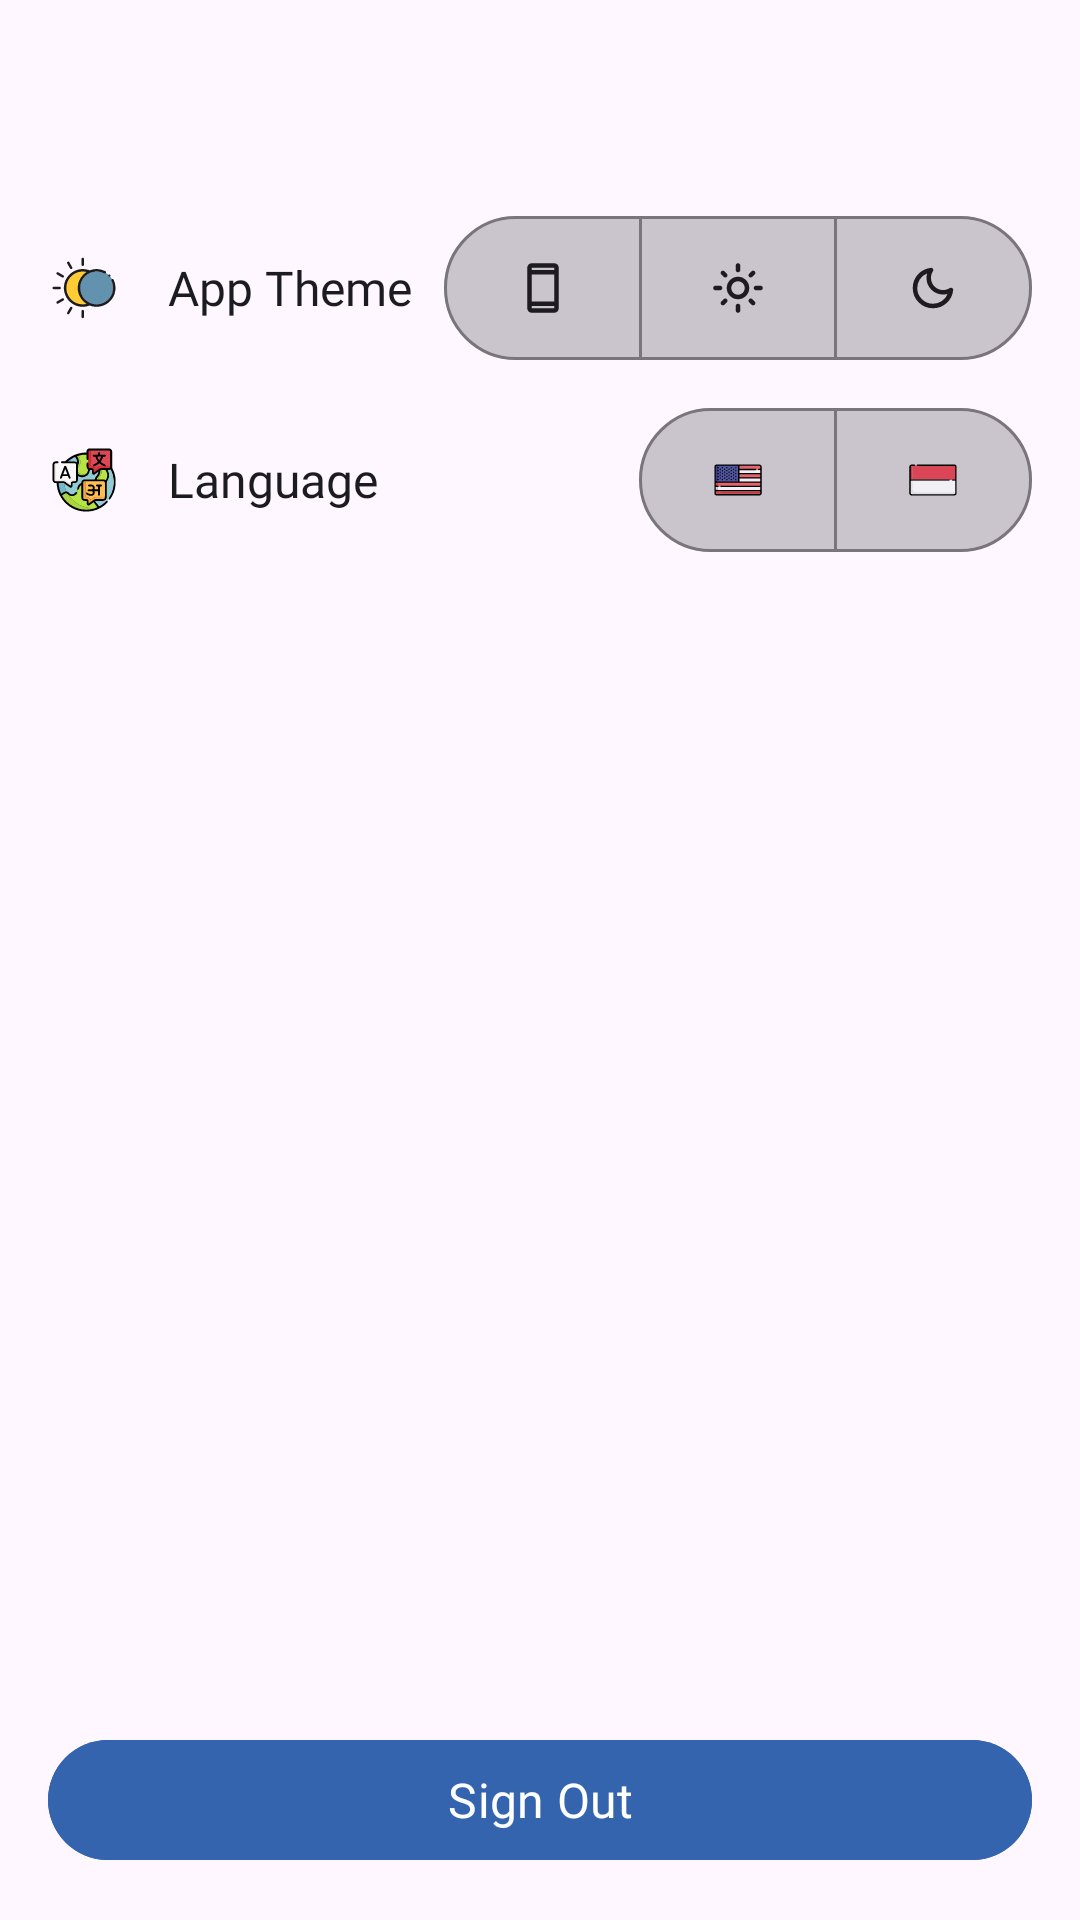

Named icons in this screenshot (1080px×1920px) and their centers, (x,y):
indonesia: (933,480)
mode: (738,288), (933,288)
smartphone: (543,288)
Theme Switch Icon: (84,288)
